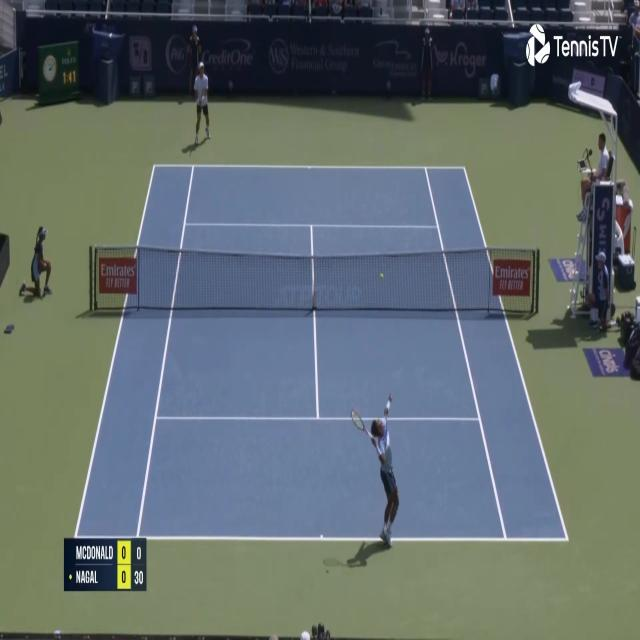tennis-player: (348, 388, 402, 554), (192, 60, 212, 144)
